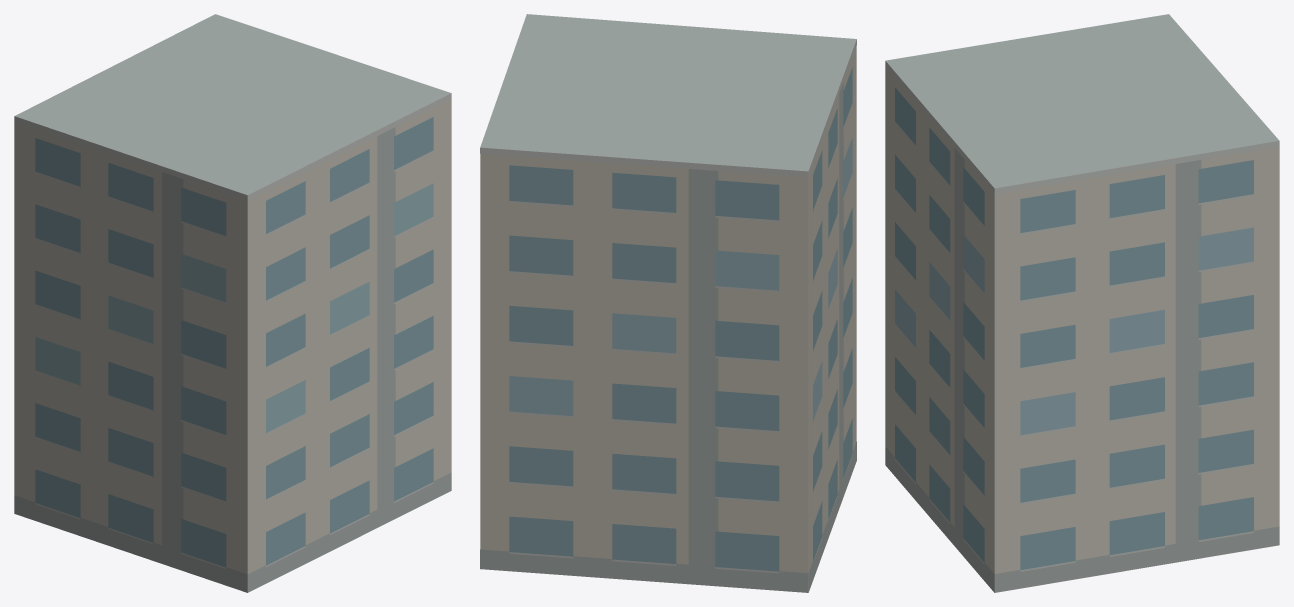
Rendered from survey-upis-32848140.glb.
3 renders of one model, left to right at view 1: azimuth 30°, elevation 25°; view 2: azimuth 150°, elevation 25°; view 3: azimuth 270°, elevation 25°, orthographic. The views are drawn at different scales.
Visible parts, largest first — view 1: survey-upis-32848140.tmp; view 2: survey-upis-32848140.tmp; view 3: survey-upis-32848140.tmp.
Part boxes in pixels (x1,y1,x2,y2): survey-upis-32848140.tmp: (14,14,451,592); survey-upis-32848140.tmp: (480,14,856,592); survey-upis-32848140.tmp: (885,14,1279,592).
Size of the model in its own units: 15.46 by 16.7 by 14.76.
